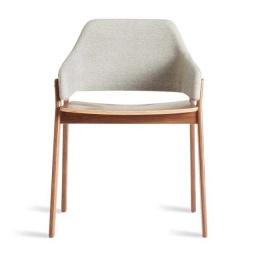Chair: (46, 19, 209, 236)
